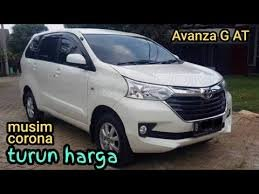mobil: (18, 25, 236, 155)
